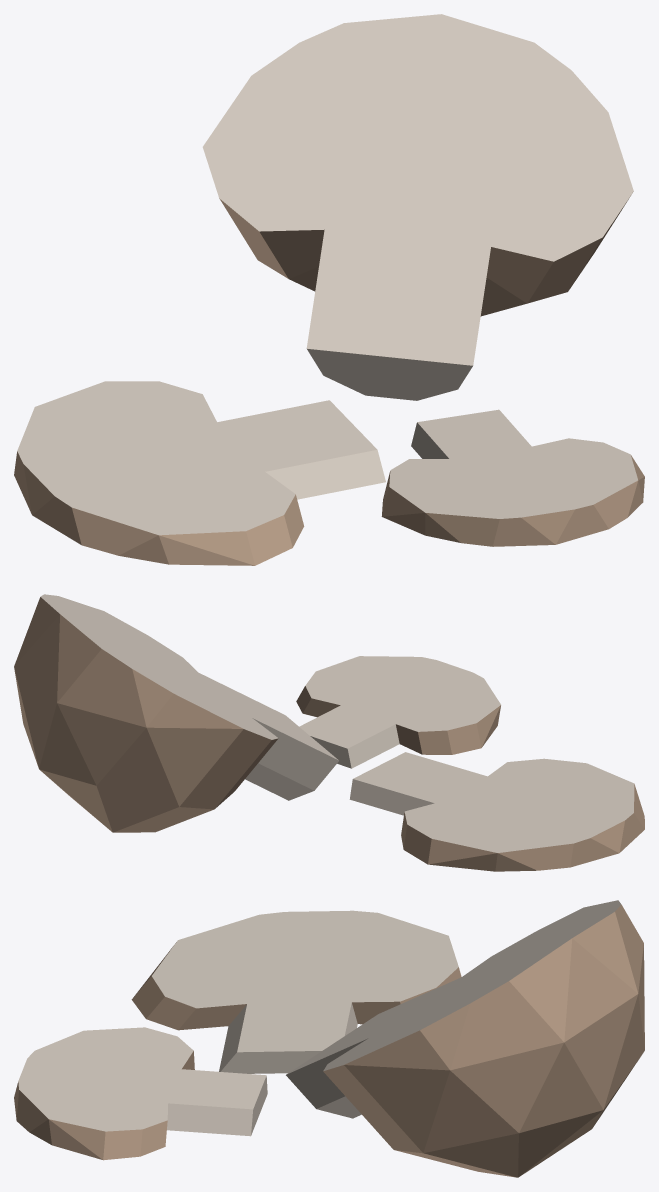
File: SM_Mushroom_Slicing.fbx
3 renders of one model, top to bottom at view 1: azimuth 30°, elevation 25°; view 2: azimuth 150°, elevation 25°; view 3: azimuth 270°, elevation 25°, orthographic. The views are drawn at different scales.
Visible parts, largest first — view 1: half sliced mushroom; view 2: half sliced mushroom; view 3: half sliced mushroom.
Boxes of the visible parts, x1,y1,x2,y2 form: half sliced mushroom: (14,14,644,565); half sliced mushroom: (14,594,644,871); half sliced mushroom: (14,900,644,1177).
Bounding box in the file's own units: 59.27 × 23.9 × 54.
